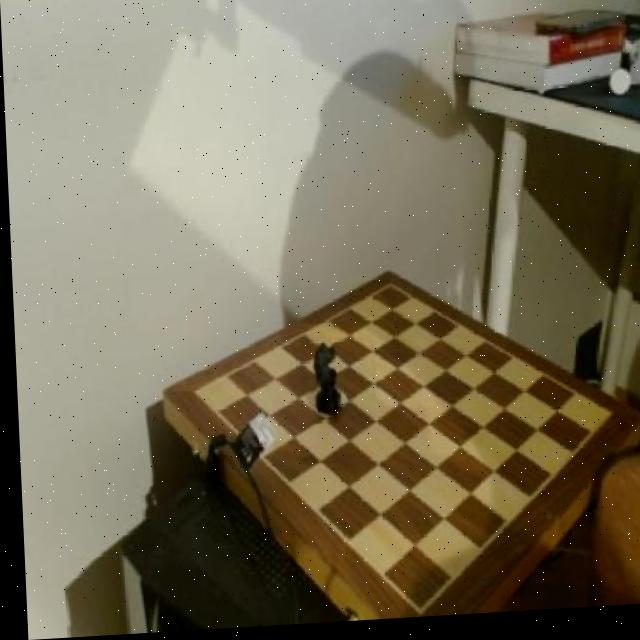black-king: (300, 337, 342, 428)
